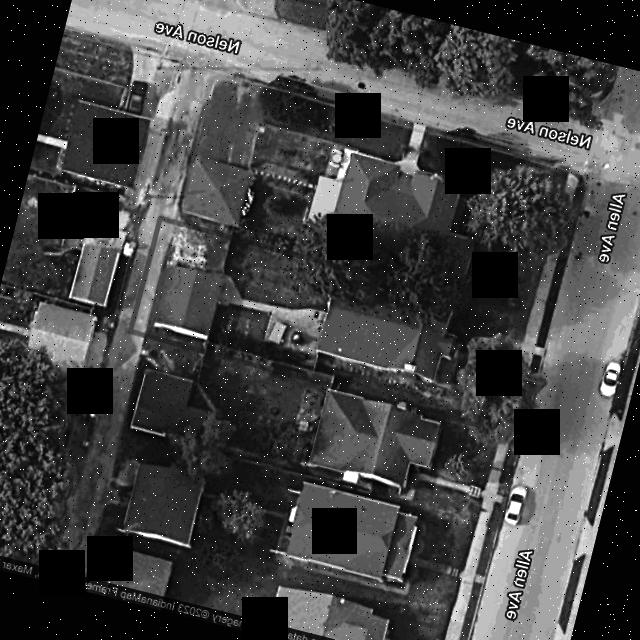Driveway: (228, 290, 326, 354)
House: (317, 300, 455, 378)
Other: (155, 264, 237, 338), (393, 369, 415, 384)
Sidewalk: (131, 219, 174, 331), (169, 225, 205, 269)
